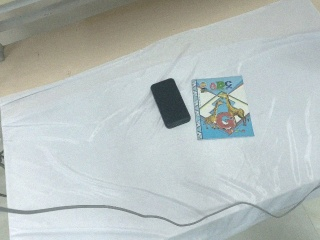book: (191, 75, 256, 141)
phone: (150, 78, 191, 129)
